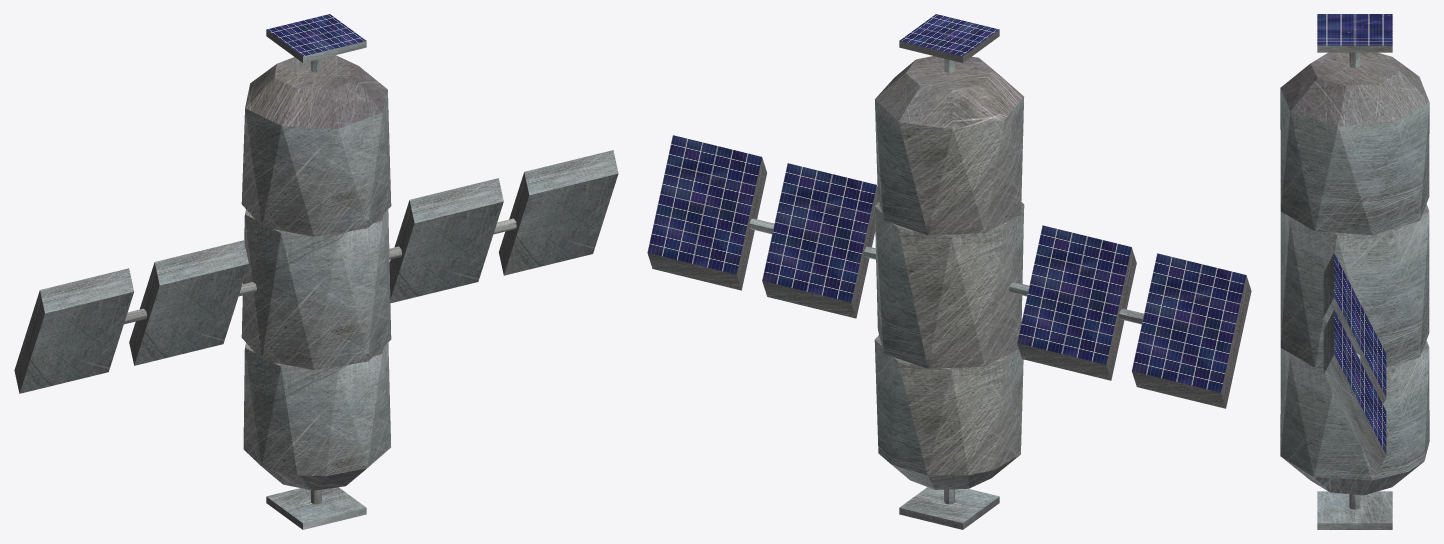
File: satelite4.fbx
3 renders of one model, left to right at view 1: azimuth 30°, elevation 25°; view 2: azimuth 150°, elevation 25°; view 3: azimuth 270°, elevation 25°, orthographic. The views are drawn at different scales.
Visible parts, largest first — view 1: satelite4; view 2: satelite4; view 3: satelite4.
Part boxes in pixels (x1=…): satelite4: x1=14, y1=14, x2=618, y2=529; satelite4: x1=647, y1=14, x2=1251, y2=529; satelite4: x1=1280, y1=14, x2=1429, y2=529.
Bounding box in the file's own units: 900 × 710 × 198.
2 materials, 2 textured.
